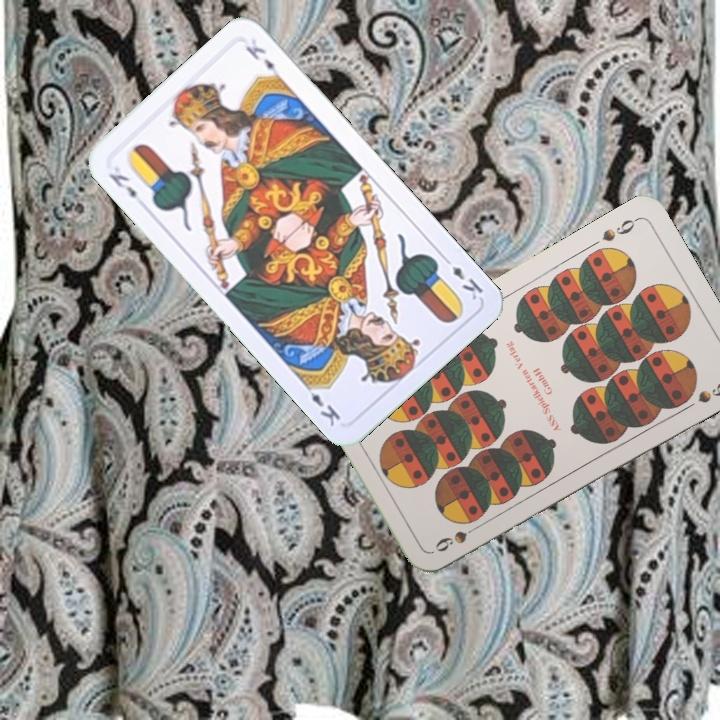EK: (438, 252, 486, 303), (104, 169, 140, 201)
S9: (430, 520, 484, 555), (598, 213, 641, 245)
